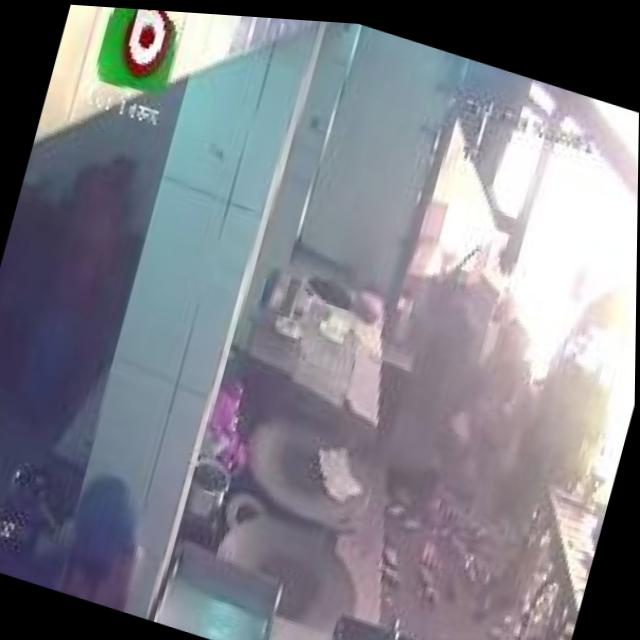fire: (380, 51, 640, 470)
